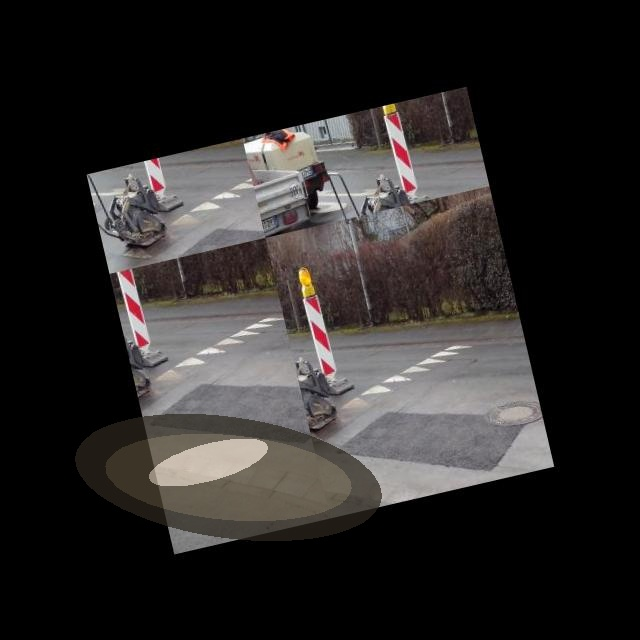waterlogging: (64, 407, 392, 547)
